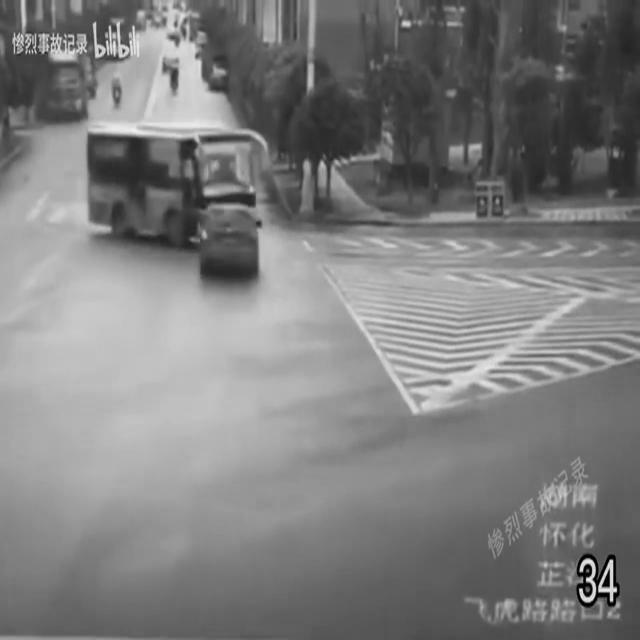accident: (85, 116, 267, 284)
